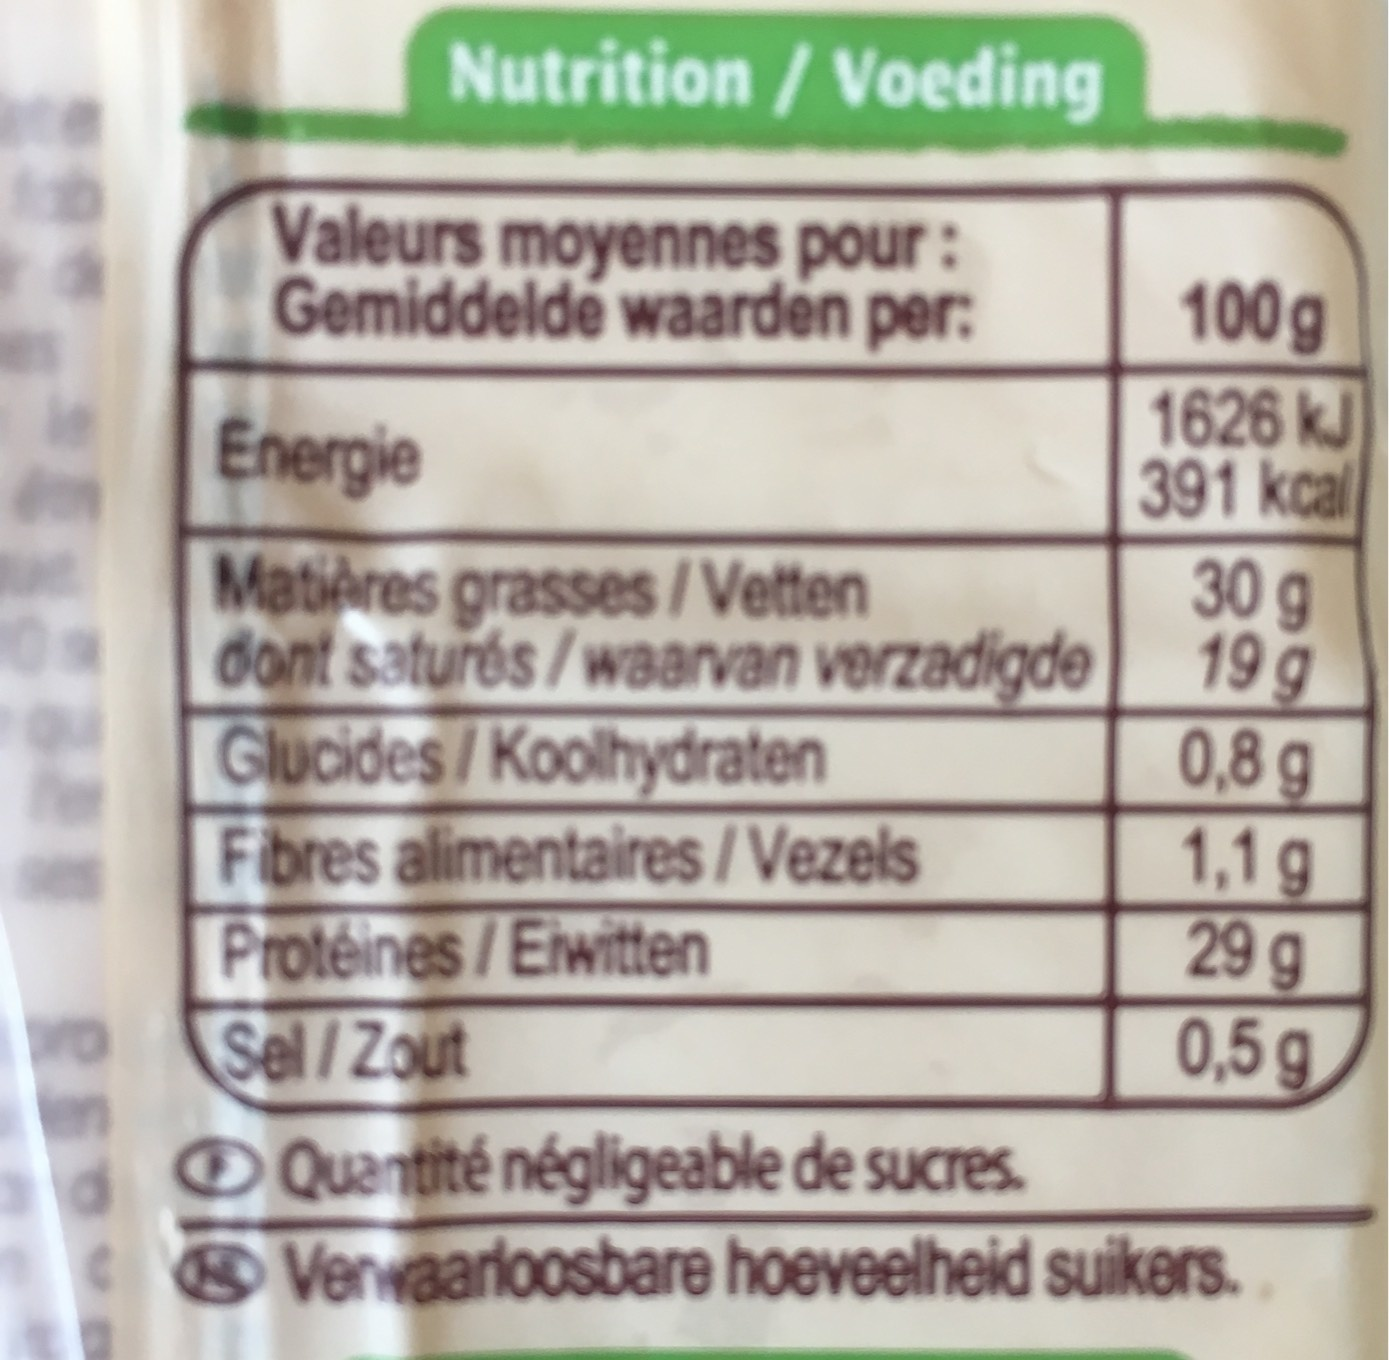column: (211, 204, 1093, 1082), (1134, 276, 1357, 1092)
table: (166, 177, 1379, 1122)
